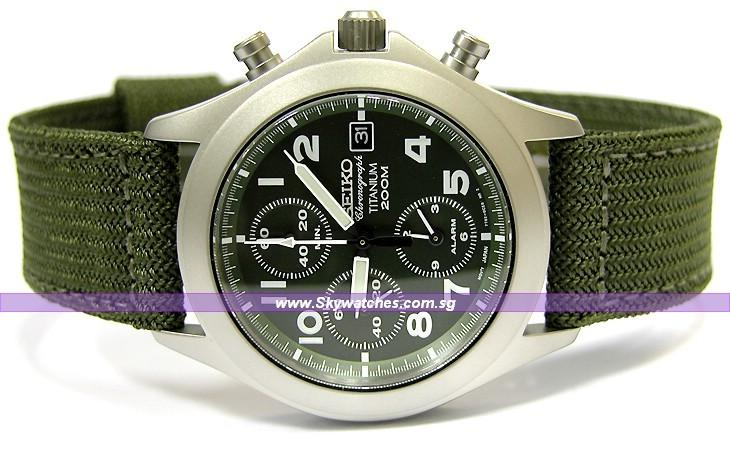watch: (167, 61, 574, 412)
